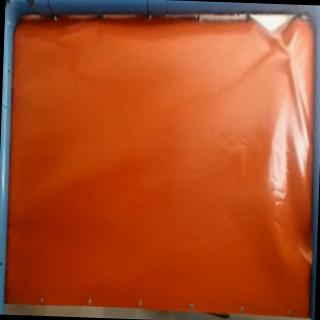Hit-hRxx: (284, 49, 298, 63)
